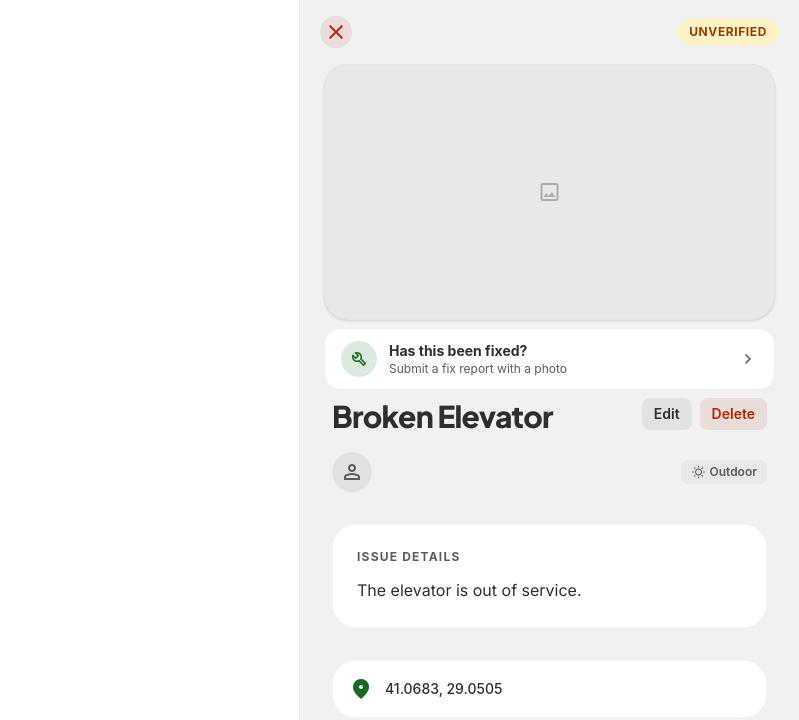
Test case: ReportPanel › owner / admin delete › shows a "no longer exists" toast on 404
Click the button "Delete".
click(733, 414)  # box top-left (700, 398), bottom-right (767, 430)
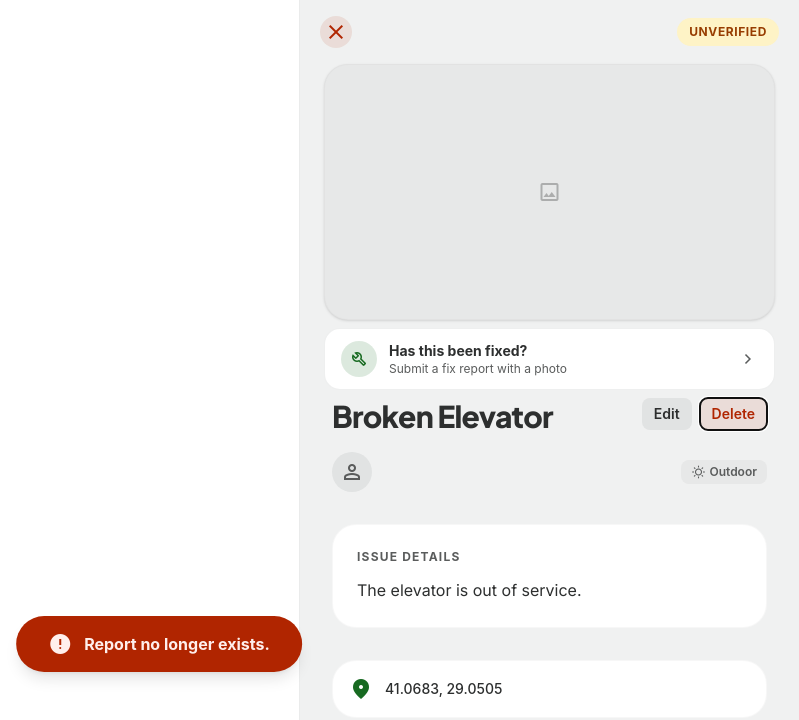
Result: the text "Report no longer exists." is shown at top-left (84, 632), bottom-right (270, 656)
